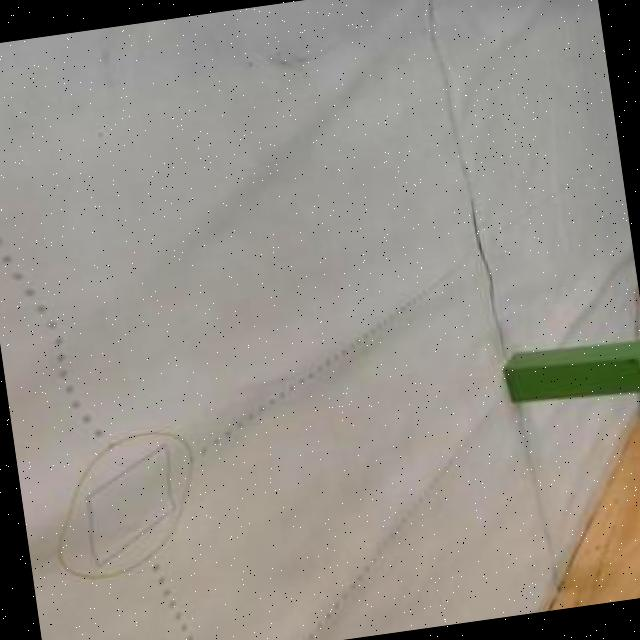greenbox: (502, 332, 640, 409)
